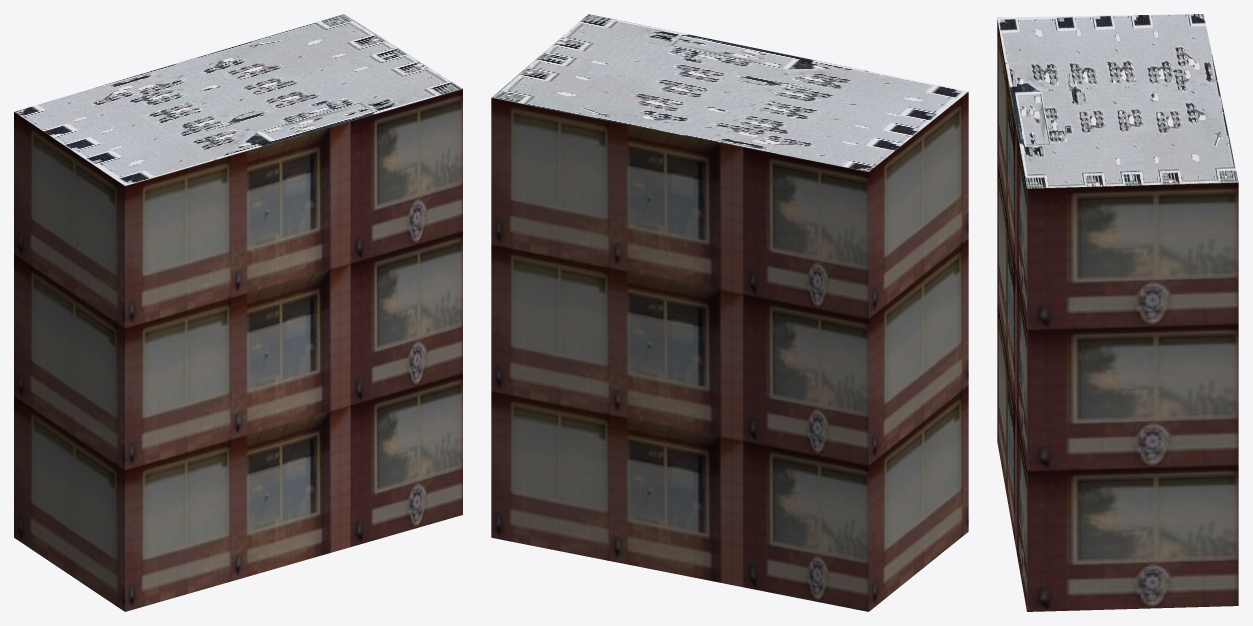
The model's file is ResTex__3288.fbx.
3 views of the same model, side by side, from view 1: azimuth 30°, elevation 25°; view 2: azimuth 150°, elevation 25°; view 3: azimuth 270°, elevation 25° (orthographic). The views are drawn at different scales.
Visible parts, largest first — view 1: CityEngineMaterial_13_m, CityEngineMaterial_4_m; view 2: CityEngineMaterial_13_m, CityEngineMaterial_4_m; view 3: CityEngineMaterial_13_m, CityEngineMaterial_4_m.
Part boxes in pixels (x1=…): CityEngineMaterial_13_m: x1=14, y1=89, x2=462, y2=611; CityEngineMaterial_4_m: x1=14, y1=14, x2=462, y2=185; CityEngineMaterial_13_m: x1=491, y1=92, x2=968, y2=611; CityEngineMaterial_4_m: x1=492, y1=14, x2=968, y2=171; CityEngineMaterial_13_m: x1=997, y1=19, x2=1238, y2=611; CityEngineMaterial_4_m: x1=997, y1=14, x2=1238, y2=188.
Bounding box in the file's own units: 7.96 × 9 × 4.66.
2 materials, 2 textured.
